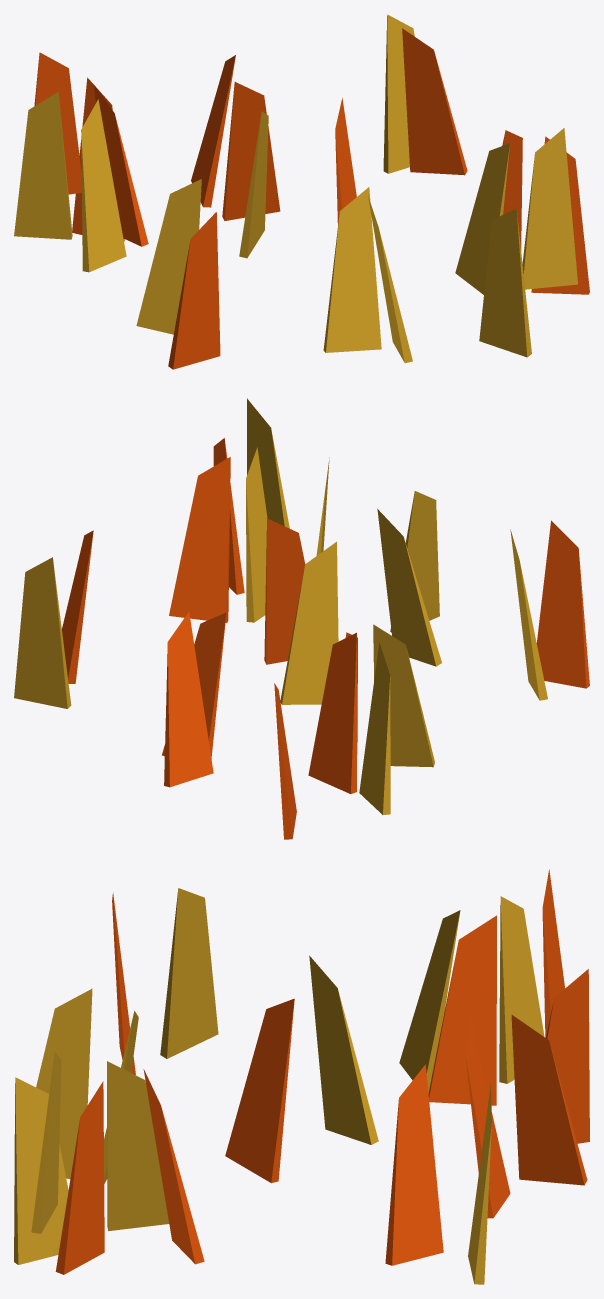
The model's file is Flowers_Extra_GustyCliffs.fbx.
The picture shows the model from 3 angles, top to bottom: view 1: azimuth 30°, elevation 25°; view 2: azimuth 150°, elevation 25°; view 3: azimuth 270°, elevation 25°; orthographic projection. The views are drawn at different scales.
Visible parts, largest first — view 1: Flower_Extra_Yellow_01, Flower_Extra_Orange_01; view 2: Flower_Extra_Orange_01, Flower_Extra_Yellow_01; view 3: Flower_Extra_Orange_01, Flower_Extra_Yellow_01.
Boxes of the visible parts, x1=… form: Flower_Extra_Yellow_01: x1=14, y1=14, x2=577, y2=363; Flower_Extra_Orange_01: x1=34, y1=28, x2=589, y2=369; Flower_Extra_Orange_01: x1=62, y1=438, x2=589, y2=839; Flower_Extra_Yellow_01: x1=14, y1=398, x2=547, y2=814; Flower_Extra_Orange_01: x1=55, y1=869, x2=589, y2=1274; Flower_Extra_Yellow_01: x1=14, y1=888, x2=544, y2=1284.
Bounding box in the file's own units: 84.96 × 40.13 × 86.55.
